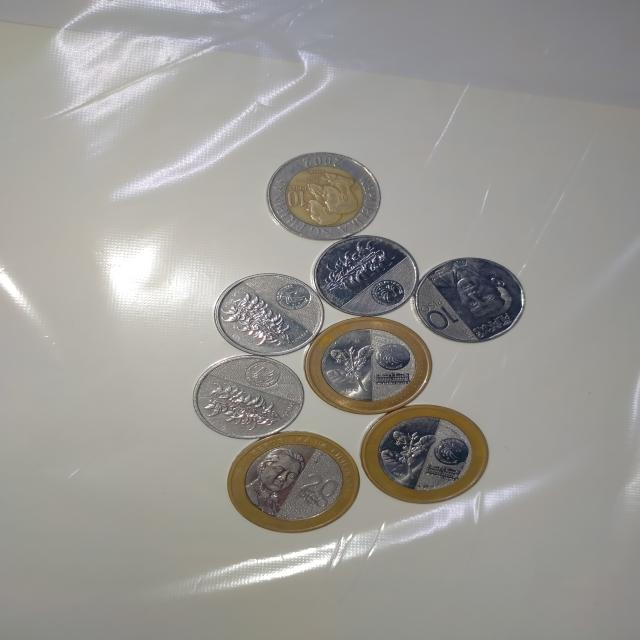10_New_Front: (425, 297, 462, 333)
10_Old_Front: (283, 182, 319, 220)
20_New_Back: (374, 418, 434, 492), (323, 337, 377, 403)
5_New_Back: (212, 293, 306, 351), (317, 238, 397, 298)
